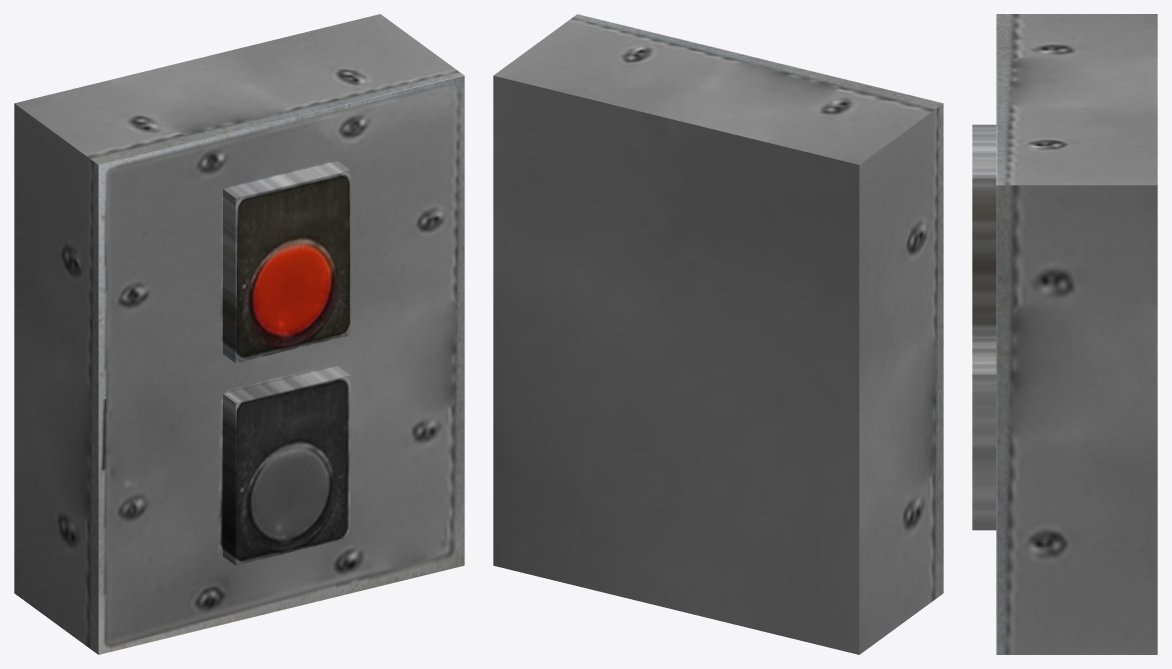
Rendered from switch_panel.glb.
3 views of the same model, side by side, from view 1: azimuth 30°, elevation 25°; view 2: azimuth 150°, elevation 25°; view 3: azimuth 270°, elevation 25° (orthographic). The views are drawn at different scales.
Visible parts, largest first — view 1: Cube; view 2: Cube; view 3: Cube.
Boxes of the visible parts, x1,y1,x2,y2 form: Cube: (14, 14, 464, 654); Cube: (493, 14, 943, 654); Cube: (972, 14, 1157, 654).
Bounding box in the file's own units: 0.7319 × 0.936 × 0.3351.
Materials: 1 (1 with a texture image).
